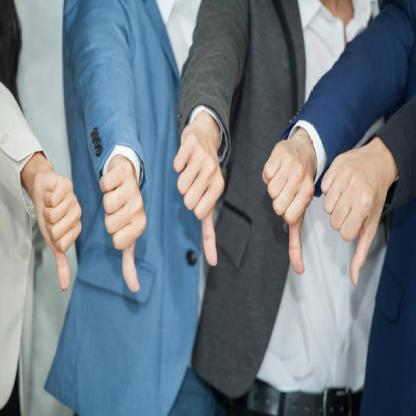thumb_down: (320, 146, 386, 289), (170, 124, 227, 268), (260, 136, 314, 278), (98, 158, 150, 296), (31, 166, 86, 296)
